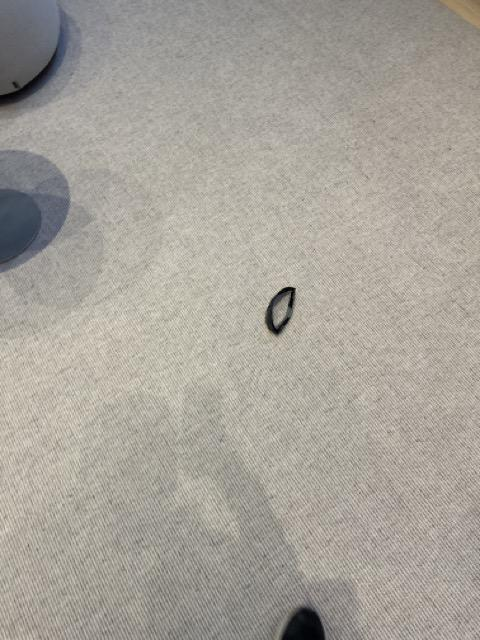Sunglasses: (264, 285, 297, 337)
